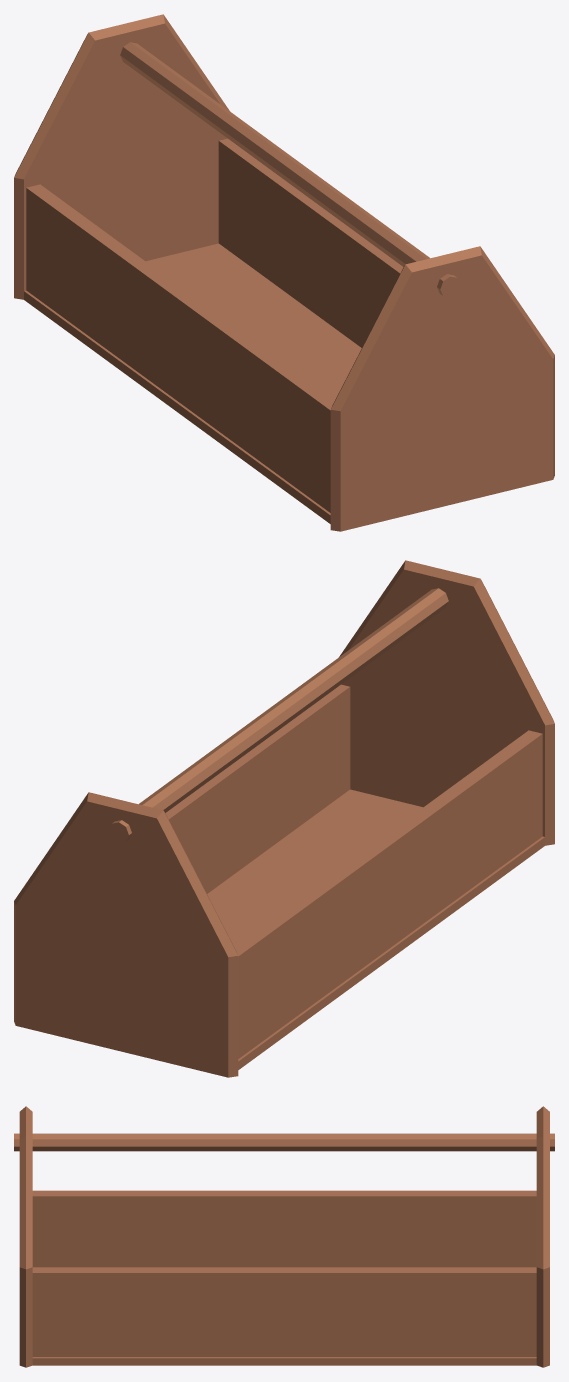
The model's file is Wooden Tools Box.fbx.
3 views of the same model, one above another, from view 1: azimuth 30°, elevation 25°; view 2: azimuth 150°, elevation 25°; view 3: azimuth 270°, elevation 25° (orthographic). The views are drawn at different scales.
Parts seen in each view (by area): view 1: Wooden Tools Box; view 2: Wooden Tools Box; view 3: Wooden Tools Box.
Part boxes in pixels (x1=…): Wooden Tools Box: x1=14, y1=14, x2=554, y2=531; Wooden Tools Box: x1=14, y1=560, x2=554, y2=1077; Wooden Tools Box: x1=14, y1=1106, x2=554, y2=1367.
Bounding box in the file's own units: 45.37 × 47.87 × 116.
